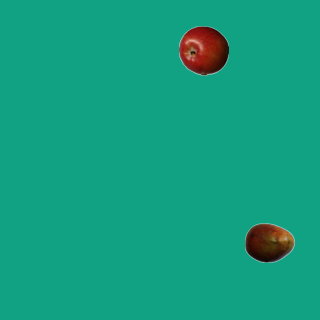Apple Braeburn: (178, 25, 228, 75)
Mango Red: (244, 217, 294, 267)
